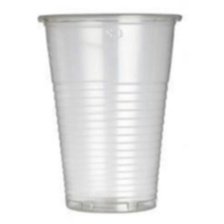glass: (31, 4, 190, 215)
